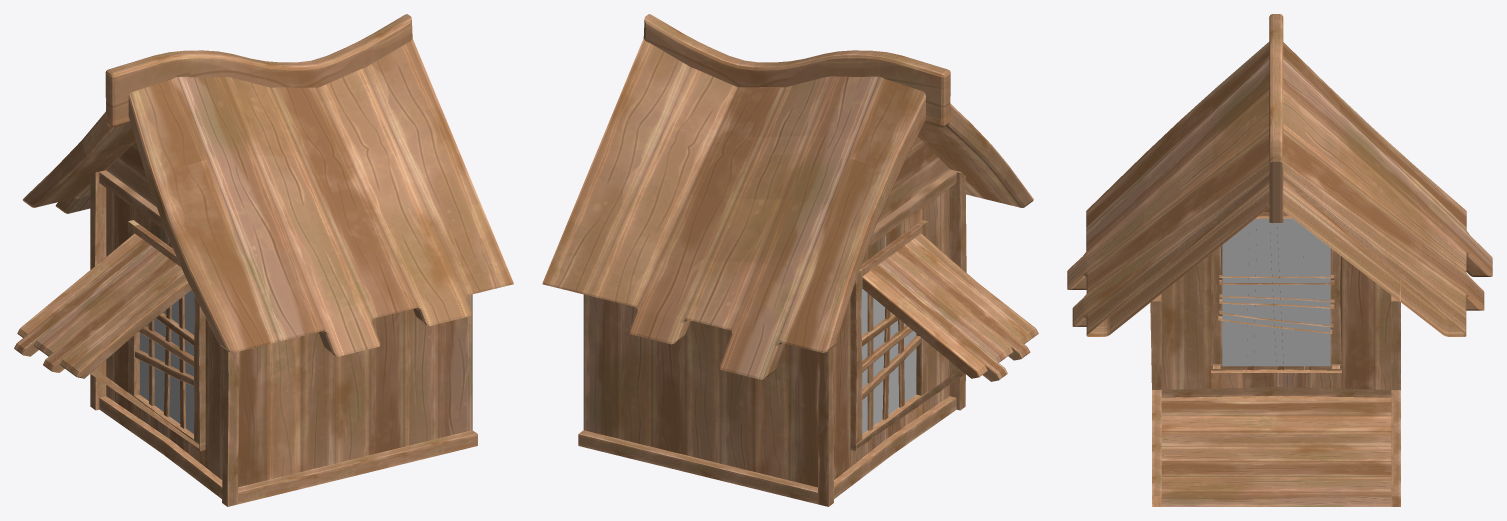
File: SM_Window_04.fbx
3 views of the same model, side by side, from view 1: azimuth 30°, elevation 25°; view 2: azimuth 150°, elevation 25°; view 3: azimuth 270°, elevation 25° (orthographic). The views are drawn at different scales.
Visible parts, largest first — view 1: SM_Window_04_LOD0; view 2: SM_Window_04_LOD0; view 3: SM_Window_04_LOD0.
Boxes of the visible parts, bbox=[...] form: SM_Window_04_LOD0: bbox=[14, 14, 513, 506]; SM_Window_04_LOD0: bbox=[542, 14, 1038, 506]; SM_Window_04_LOD0: bbox=[1067, 14, 1492, 506].
Bounding box in the file's own units: 230 × 248 × 234.
3 materials, 2 textured.
